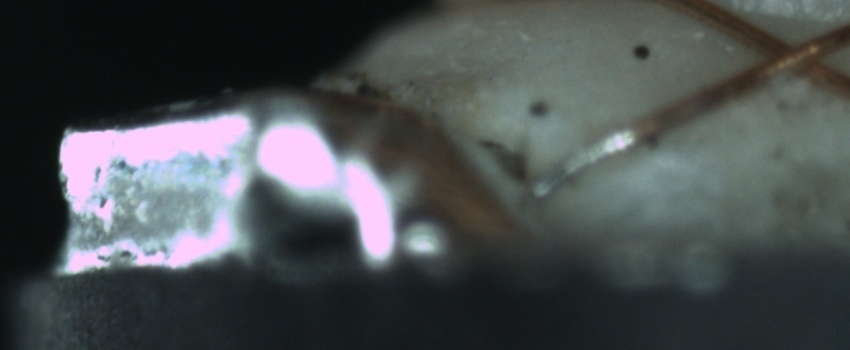CL: (746, 17, 840, 84)
TS: (528, 126, 636, 199)
